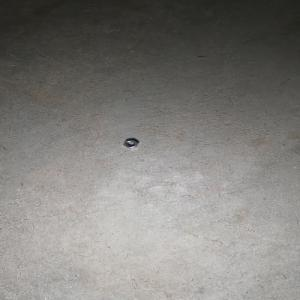Nut: (123, 139, 139, 148)
